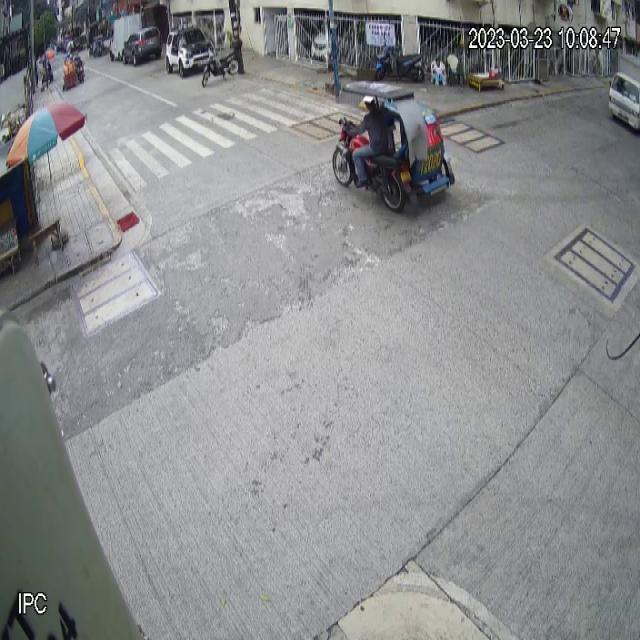Tricycle: (332, 79, 456, 213)
